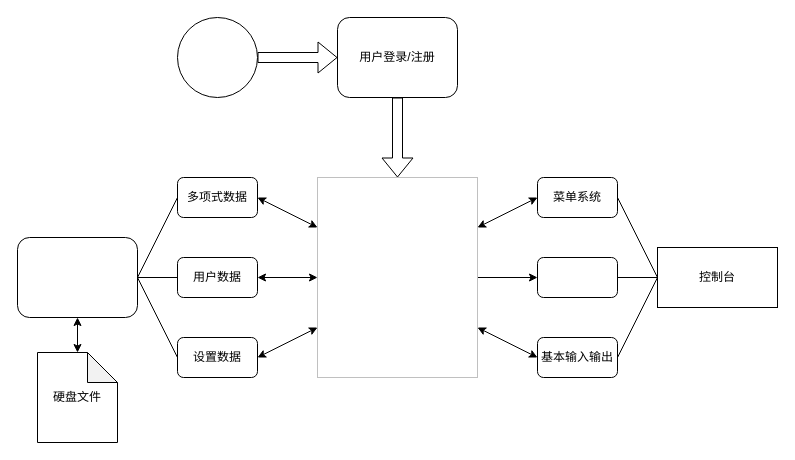
This 795x460 diagram has some shape labels left out. The centre of each missing label's shape, as x and y in pixels:
Begin: point (217, 57)
基于json的 序列化 与反序列化: point (77, 277)
彩色文本: point (577, 277)
用户操作 多项式搜索 多项式输入 多项式删除 多项式拟合 用户名修改 密码修改 [Admin]用户显示 [Admin]用户删除 系统设置 退出系统: point (397, 277)
